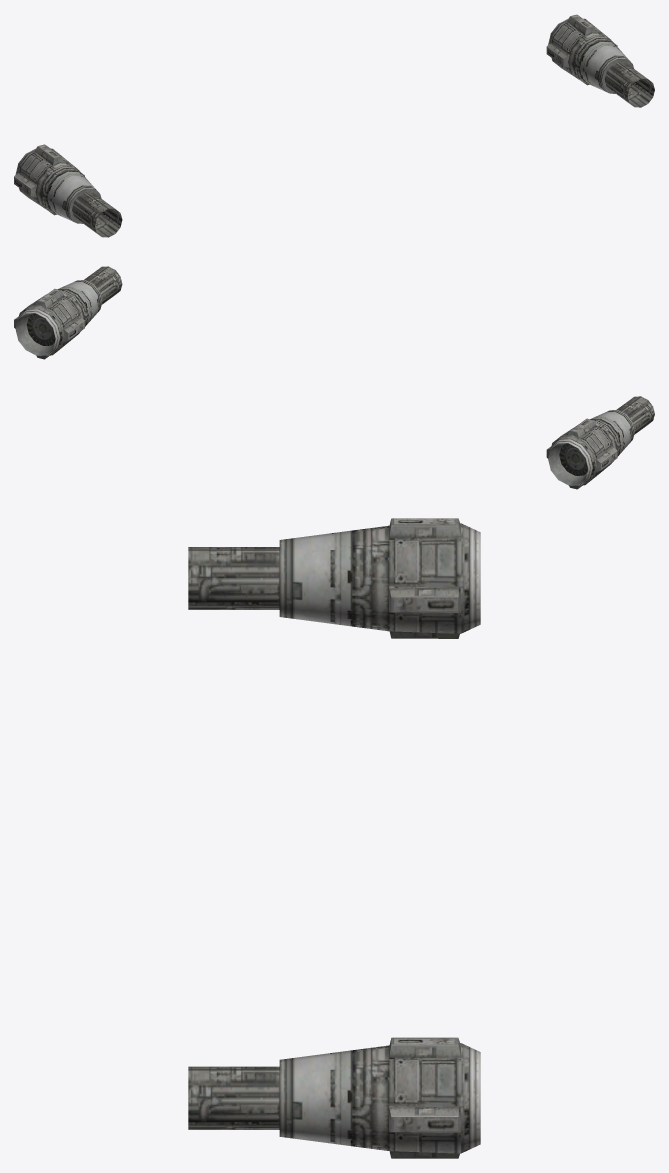
Rendered from ykl37r_booster_s02_l0.fbx.
3 renders of one model, top to bottom at view 1: azimuth 30°, elevation 25°; view 2: azimuth 150°, elevation 25°; view 3: azimuth 270°, elevation 25°, orthographic. The views are drawn at different scales.
Visible parts, largest first — view 1: mesh_node; view 2: mesh_node; view 3: mesh_node.
Boxes of the visible parts, x1=… form: mesh_node: x1=14, y1=14, x2=654, y2=237; mesh_node: x1=14, y1=266, x2=654, y2=489; mesh_node: x1=188, y1=518, x2=480, y2=1158.
Size of the model in its own units: 17.38 by 1.61 by 3.75.
1 material, 1 textured.
